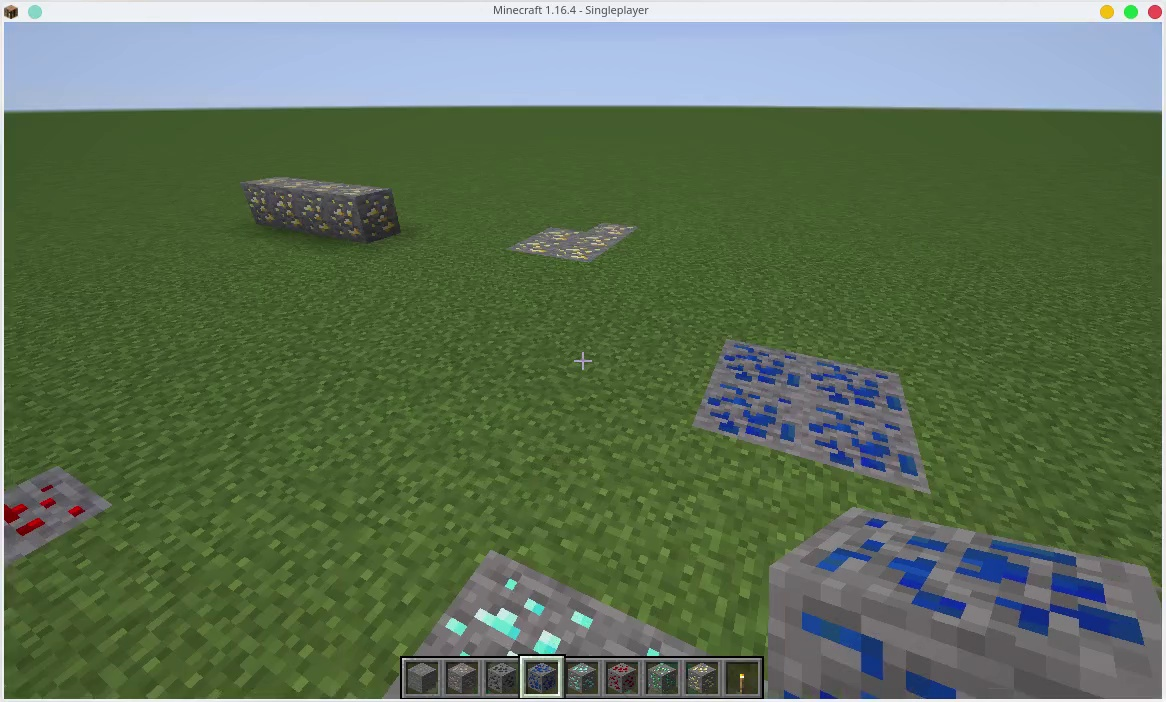gold: (332, 185, 403, 242), (305, 176, 332, 235), (246, 175, 272, 223), (275, 183, 300, 226), (594, 217, 637, 240), (686, 661, 712, 693), (559, 241, 593, 264), (512, 237, 553, 252), (540, 225, 575, 241), (580, 233, 610, 249)
